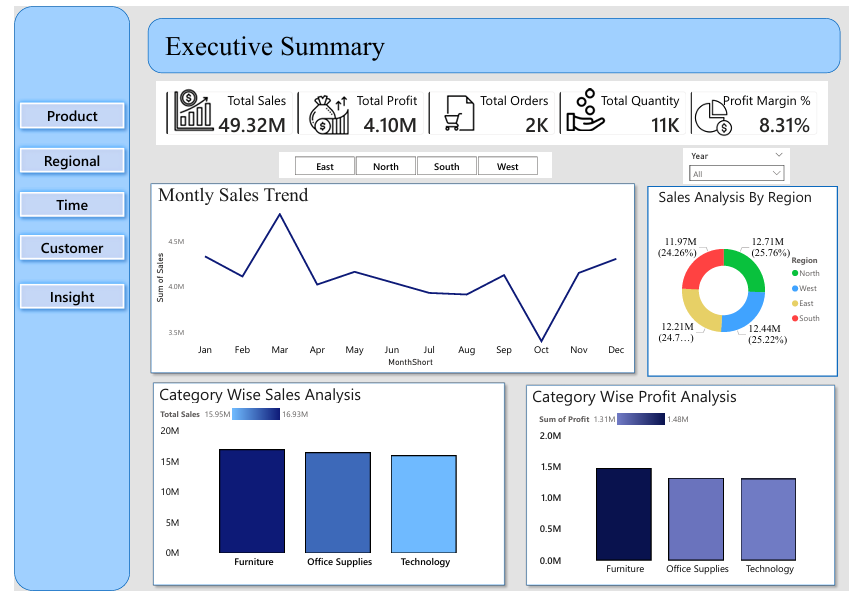

The dashboard page shown, as its layout file describes it:
{"tool":"powerbi","page":{"name":" Executive","canvas":[1400,993],"ordinal":0},"visuals":[{"type":"shape","box":[224,20,1162,92],"z":0},{"type":"cardVisual","fields":{"Data":["MeasursTable.Total Sales","MeasursTable.Total Profit","MeasursTable.Total Orders","MeasursTable.Total Quantity","MeasursTable.Profit Margin %"]},"box":[238,126,1126,106],"z":0,"group":"g5"},{"type":"shape","box":[850,626,536,354],"z":0,"group":"g3"},{"type":"shape","box":[0,0,194,980],"z":1000},{"type":"shape","box":[224,622,608,358],"z":1000,"group":"g4"},{"type":"slicer","fields":{"Values":["DateTable.Year"]},"box":[1123.3,238.3,178.3,58.3],"z":2000},{"type":"shape","box":[1063.3,301.7,318.3,318.3],"z":2000,"group":"g2"},{"type":"slicer","fields":{"Values":["SalesData.Region"]},"box":[445,245,456.7,43.3],"z":3000},{"type":"shape","box":[220,288,830,336],"z":3000,"group":"g1"},{"type":"group","id":"g1","title":"Group 1","box":[220,288,830,336],"z":4000},{"type":"group","id":"g2","title":"Group 2","box":[1063.3,301.7,318.3,318.3],"z":5000},{"type":"group","id":"g3","title":"Group 3","box":[850,626,536,354],"z":6000},{"type":"lineChart","fields":{"Y":["Sum(SalesData.Sales)"],"Category":["SalesData.MonthShort"]},"box":[232,334,808,276],"z":7000,"group":"g1"},{"type":"group","id":"g4","title":"Group 4","box":[224,622,608,358],"z":7000},{"type":"actionButton","box":[0,152,194,62],"z":8000},{"type":"donutChart","fields":{"Y":["Sum(SalesData.Sales)"],"Category":["SalesData.Region"]},"box":[1071.3,345.3,302.3,261.5],"z":8000,"group":"g2"},{"type":"actionButton","box":[0,228,194,60],"z":9000},{"type":"clusteredColumnChart","fields":{"Category":["SalesData.Category"],"Y":["MeasursTable.Total Sales"]},"box":[240,666,570,286],"z":9000,"group":"g4"},{"type":"actionButton","box":[0,302,194,60],"z":10000},{"type":"columnChart","fields":{"Y":["Sum(SalesData.Profit)"],"Category":["SalesData.Category"]},"box":[876,674,494,290],"z":10000,"group":"g3"},{"type":"actionButton","box":[0,374,194,60],"z":11000},{"type":"group","id":"g5","title":"Group 5","box":[238,126,1126,106],"z":12000},{"type":"image","box":[492,148,72,68],"z":13000,"group":"g5"},{"type":"actionButton","box":[0,456,194,60],"z":13000},{"type":"image","box":[688,146,122,66],"z":14000,"group":"g5"},{"type":"image","box":[242,138,120,72],"z":15000,"group":"g5"},{"type":"image","box":[902,138,114,72],"z":16000,"group":"g5"},{"type":"image","box":[1138,144,70,86],"z":17000,"group":"g5"}]}

Visuals, with their boxes on the page's 1400x993 design canvas (x1, y1, x2, y2). These are canvas units, not pixel positions in the 862x591 screenshot, which may show the page scaled, cropped or inside an application window:
shape: 224 20 1386 112
cardVisual - MeasursTable.Total Sales x MeasursTable.Total Profit: 238 126 1364 232
shape: 850 626 1386 980
shape: 0 0 194 980
shape: 224 622 832 980
slicer - DateTable.Year: 1123 238 1302 297
shape: 1063 302 1382 620
slicer - SalesData.Region: 445 245 902 288
shape: 220 288 1050 624
"Group 1" group: 220 288 1050 624
"Group 2" group: 1063 302 1382 620
"Group 3" group: 850 626 1386 980
lineChart - Sum(SalesData.Sales) x SalesData.MonthShort: 232 334 1040 610
"Group 4" group: 224 622 832 980
actionButton: 0 152 194 214
donutChart - Sum(SalesData.Sales) x SalesData.Region: 1071 345 1374 607
actionButton: 0 228 194 288
clusteredColumnChart - SalesData.Category x MeasursTable.Total Sales: 240 666 810 952
actionButton: 0 302 194 362
columnChart - Sum(SalesData.Profit) x SalesData.Category: 876 674 1370 964
actionButton: 0 374 194 434
"Group 5" group: 238 126 1364 232
image: 492 148 564 216
actionButton: 0 456 194 516
image: 688 146 810 212
image: 242 138 362 210
image: 902 138 1016 210
image: 1138 144 1208 230
